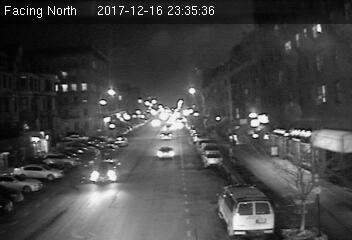car: (90, 157, 122, 186), (201, 150, 223, 167), (155, 146, 176, 161), (158, 130, 174, 142)
police: (216, 182, 277, 235)
